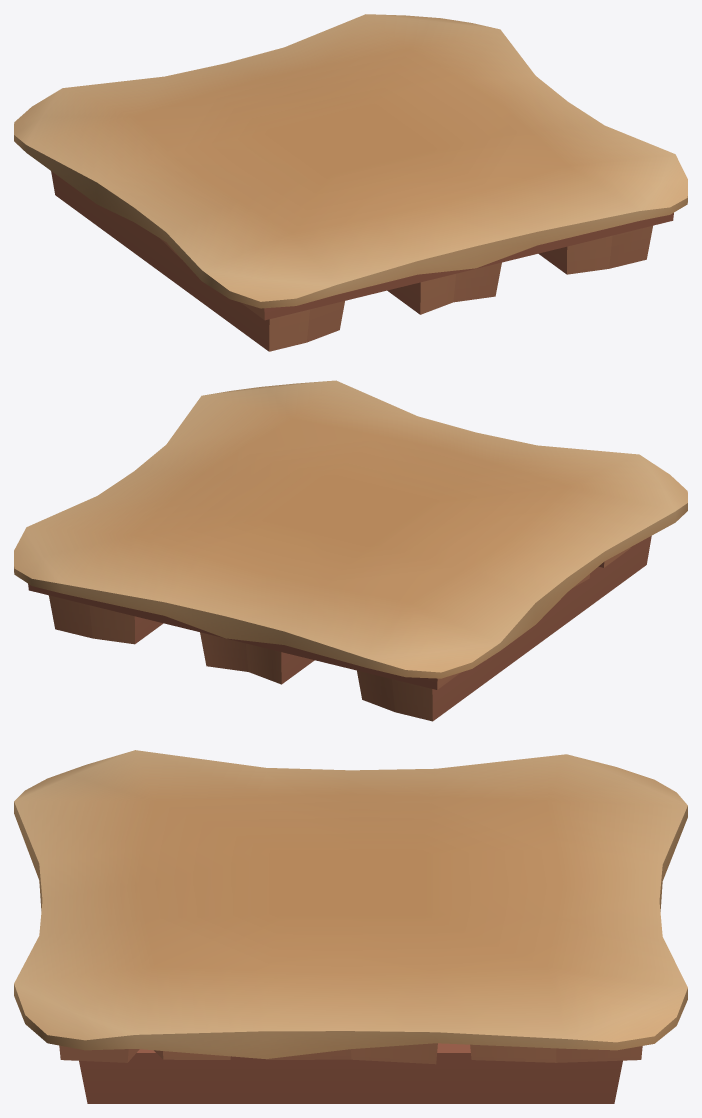
Rendered from kk_pallet_covered.glb.
The picture shows the model from 3 angles, top to bottom: view 1: azimuth 30°, elevation 25°; view 2: azimuth 150°, elevation 25°; view 3: azimuth 270°, elevation 25°; orthographic projection. The views are drawn at different scales.
Visible parts, largest first — view 1: Pallet_Wood_Covered_A; view 2: Pallet_Wood_Covered_A; view 3: Pallet_Wood_Covered_A.
Part boxes in pixels (x1=…): Pallet_Wood_Covered_A: x1=14, y1=14, x2=687, y2=351; Pallet_Wood_Covered_A: x1=14, y1=380, x2=687, y2=721; Pallet_Wood_Covered_A: x1=14, y1=750, x2=687, y2=1103.
Size of the model in its own units: 1.2 by 0.2088 by 1.2.
1 material, 1 textured.
